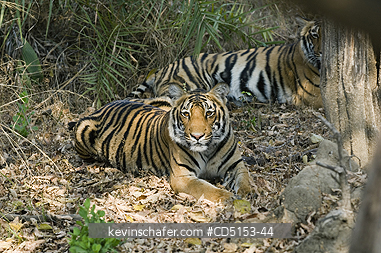Tigre: (68, 94, 257, 183)
